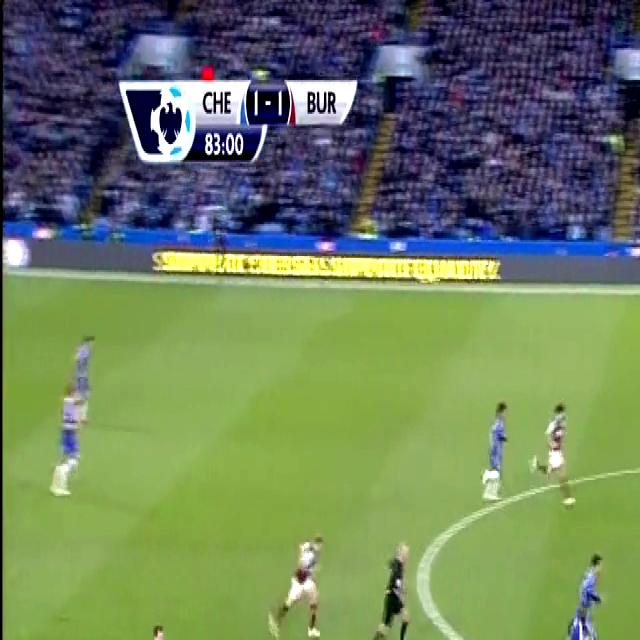referee: (365, 526, 417, 640)
soccer-player: (265, 521, 330, 640), (537, 546, 613, 640), (46, 381, 90, 509), (536, 390, 580, 514), (478, 388, 515, 512), (66, 317, 99, 424), (115, 608, 180, 640)
